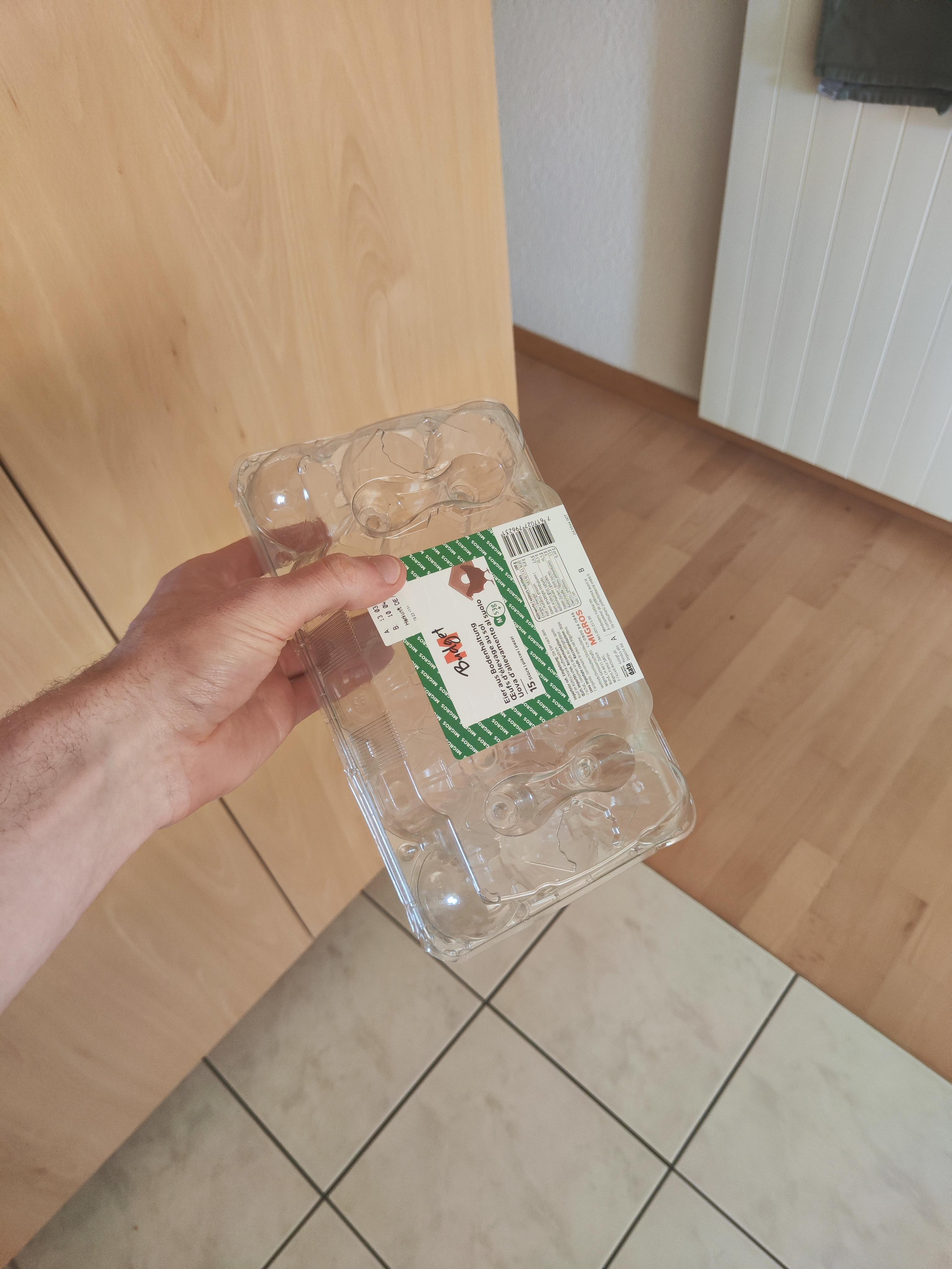Plastic: (234, 400, 702, 965)
